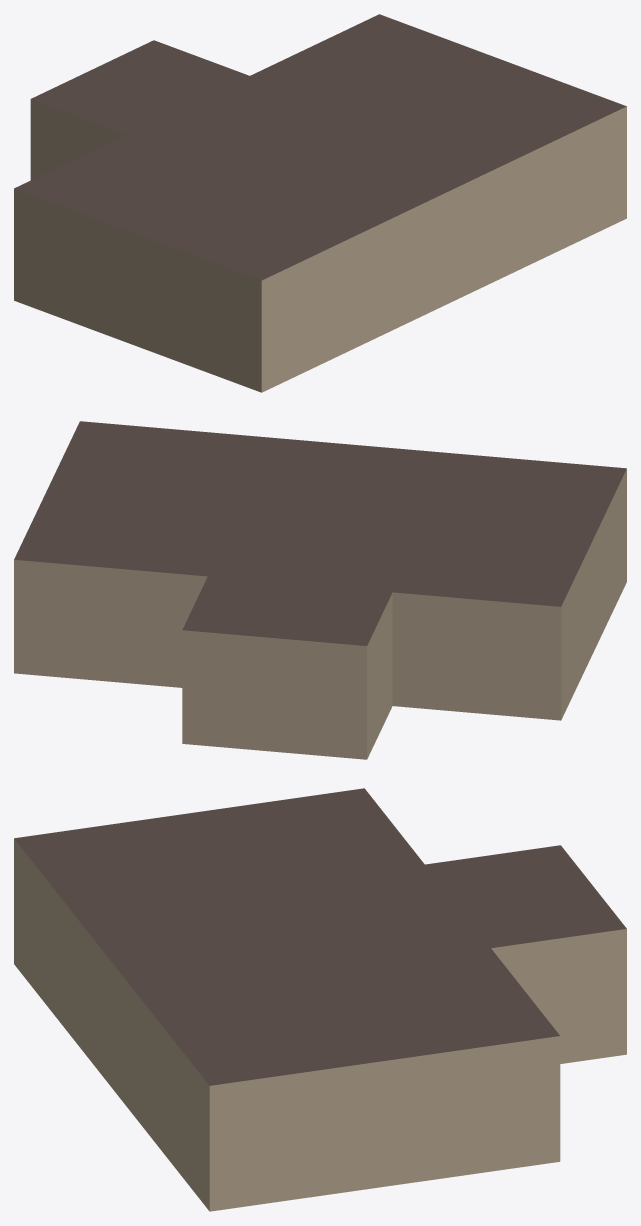
3 views of the same model, one above another, from view 1: azimuth 30°, elevation 25°; view 2: azimuth 150°, elevation 25°; view 3: azimuth 270°, elevation 25° (orthographic). The views are drawn at different scales.
Visible parts, largest first — view 1: HP-w494956626; view 2: HP-w494956626; view 3: HP-w494956626.
Part boxes in pixels (left/top/right/bottom): HP-w494956626: left=14, top=14, right=626, bottom=392; HP-w494956626: left=14, top=421, right=626, bottom=759; HP-w494956626: left=14, top=788, right=626, bottom=1211.
Size of the model in its own units: 30.44 by 6 by 26.5.
